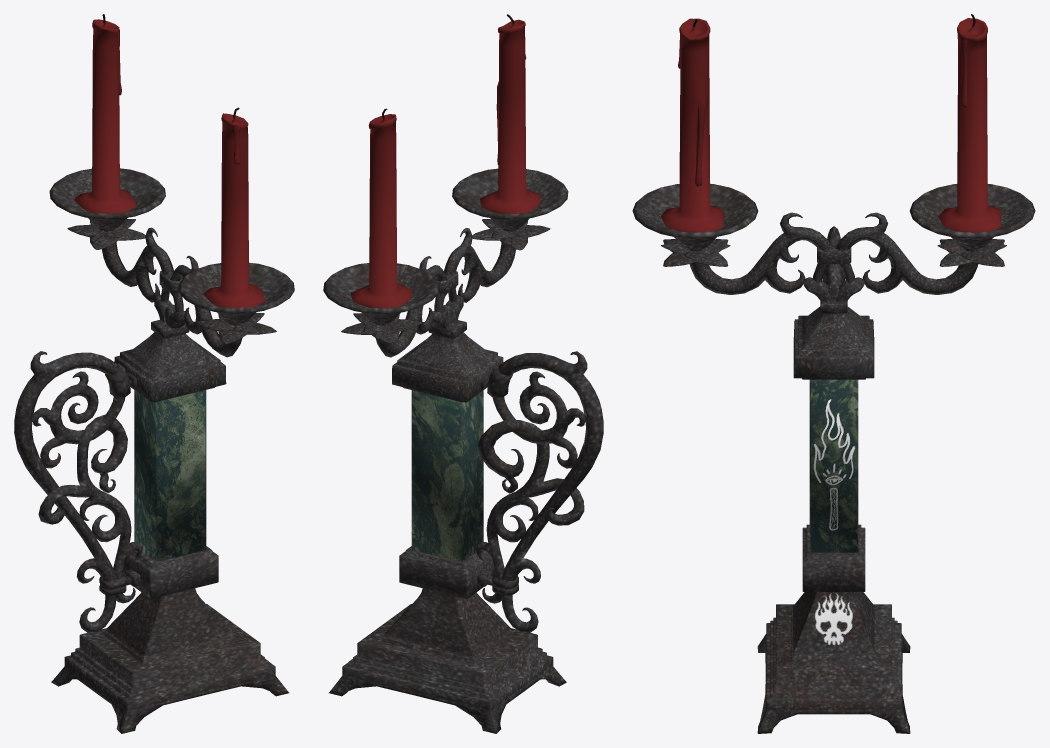
Rendered from candle_holder.glb.
3 views of the same model, side by side, from view 1: azimuth 30°, elevation 25°; view 2: azimuth 150°, elevation 25°; view 3: azimuth 270°, elevation 25° (orthographic). The views are drawn at different scales.
Visible parts, largest first — view 1: Object_13, Object_10; view 2: Object_13, Object_10; view 3: Object_13, Object_10.
Boxes of the visible parts, left/top/right/bottom form: Object_13: left=14, top=168, right=294, bottom=733; Object_10: left=74, top=14, right=265, bottom=307; Object_13: left=323, top=168, right=603, bottom=733; Object_10: left=351, top=14, right=541, bottom=308; Object_13: left=632, top=183, right=1035, bottom=733; Object_10: left=661, top=14, right=1001, bottom=232.
Size of the model in its own units: 1.29 by 3.22 by 1.74.
Materials: 2 (2 with a texture image).
